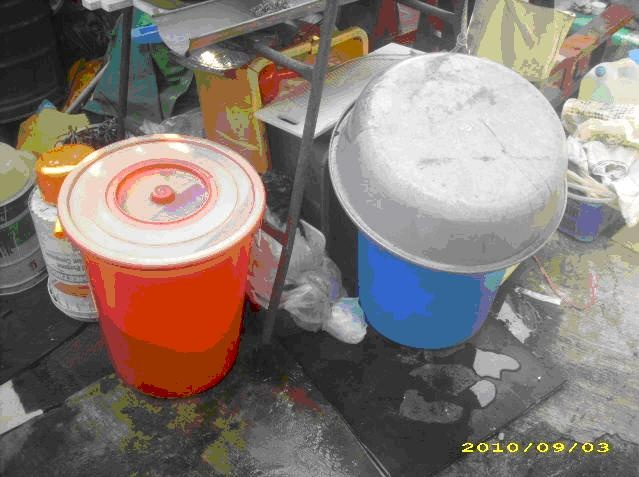bowl: (326, 50, 569, 275), (34, 143, 95, 203)
bucket: (58, 132, 266, 400), (578, 48, 639, 104)
plastic_bag: (566, 99, 639, 177)
